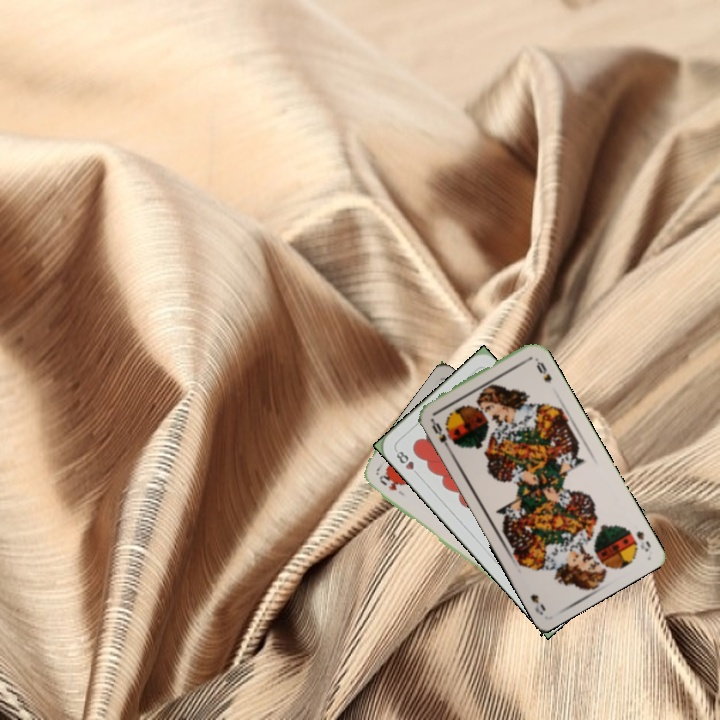H8: (391, 446, 422, 479)
HO: (375, 471, 407, 499)
SO: (427, 415, 453, 452), (632, 527, 654, 554)
